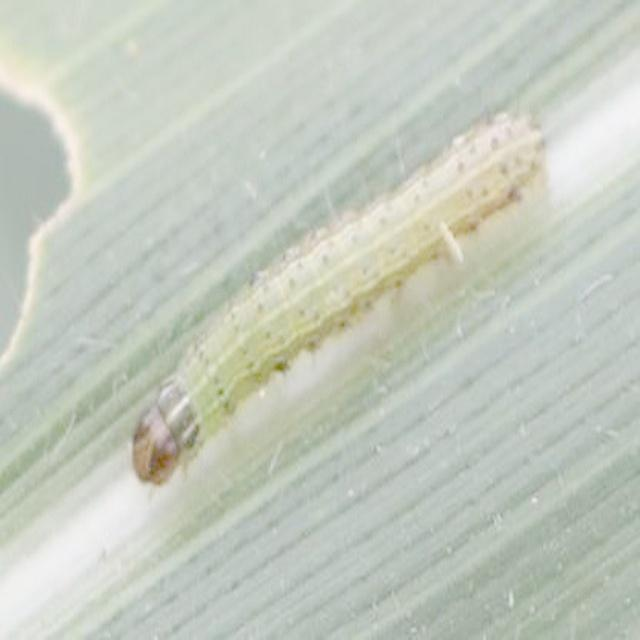gusano_cogollero: (130, 101, 538, 478)
